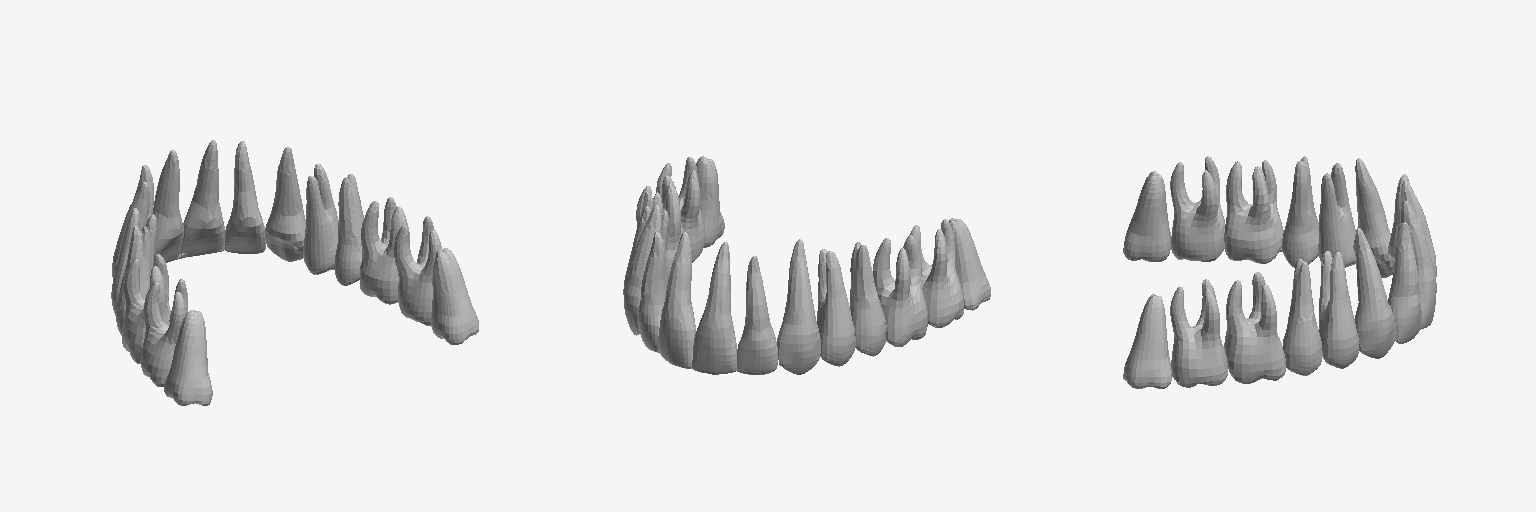
Rendered from upper_teeth.obj.
The picture shows the model from 3 angles: view 1: azimuth 30°, elevation 25°; view 2: azimuth 150°, elevation 25°; view 3: azimuth 270°, elevation 25°; orthographic projection.
Visible parts, largest first — view 1: Mouth_OBJ:tints_up_left polySurface3, polySurface1 Mouth_OBJ:tints_up_left, Mouth_OBJ:tints_up_left polySurface2, Mouth_OBJ:tints_up_left polySurface8, Mouth_OBJ:tints_up_right polySurface9, Mouth_OBJ:tints_up_left polySurface6, Mouth_OBJ:tints_up_left polySurface5, Mouth_OBJ:tints_up_right polySurface10, Mouth_OBJ:tints_up_left polySurface7, Mouth_OBJ:tints_up_right polySurface11, Mouth_OBJ:tints_up_left polySurface4, polySurface16 Mouth_OBJ:tints_up_right (+3 smaller); view 2: Mouth_OBJ:tints_up_right polySurface11, polySurface16 Mouth_OBJ:tints_up_right, Mouth_OBJ:tints_up_right polySurface14, Mouth_OBJ:tints_up_left polySurface8, Mouth_OBJ:tints_up_right polySurface13, Mouth_OBJ:tints_up_right polySurface10, Mouth_OBJ:tints_up_right polySurface15, Mouth_OBJ:tints_up_right polySurface12, Mouth_OBJ:tints_up_left polySurface7, Mouth_OBJ:tints_up_right polySurface9, Mouth_OBJ:tints_up_left polySurface2, Mouth_OBJ:tints_up_left polySurface6 (+3 smaller); view 3: Mouth_OBJ:tints_up_left polySurface3, Mouth_OBJ:tints_up_right polySurface11, Mouth_OBJ:tints_up_left polySurface2, Mouth_OBJ:tints_up_right polySurface10, Mouth_OBJ:tints_up_left polySurface5, Mouth_OBJ:tints_up_left polySurface6, polySurface1 Mouth_OBJ:tints_up_left, Mouth_OBJ:tints_up_right polySurface9, Mouth_OBJ:tints_up_left polySurface4, Mouth_OBJ:tints_up_right polySurface13, Mouth_OBJ:tints_up_left polySurface7, Mouth_OBJ:tints_up_right polySurface12 (+4 smaller).
Boxes of the visible parts, box(x1,y1,x2,y2) form: Mouth_OBJ:tints_up_left polySurface3: box(360, 197, 409, 304); polySurface1 Mouth_OBJ:tints_up_left: box(431, 248, 478, 344); Mouth_OBJ:tints_up_left polySurface2: box(394, 216, 441, 325); Mouth_OBJ:tints_up_left polySurface8: box(181, 140, 224, 258); Mouth_OBJ:tints_up_right polySurface9: box(164, 310, 212, 405); Mouth_OBJ:tints_up_left polySurface6: box(265, 147, 305, 261); Mouth_OBJ:tints_up_left polySurface5: box(303, 164, 338, 274); Mouth_OBJ:tints_up_right polySurface10: box(140, 279, 187, 386); Mouth_OBJ:tints_up_left polySurface7: box(225, 141, 265, 253); Mouth_OBJ:tints_up_right polySurface11: box(122, 254, 170, 363); Mouth_OBJ:tints_up_left polySurface4: box(335, 174, 363, 285); polySurface16 Mouth_OBJ:tints_up_right: box(153, 150, 183, 262); Mouth_OBJ:tints_up_right polySurface11: box(873, 235, 927, 346); polySurface16 Mouth_OBJ:tints_up_right: box(692, 242, 736, 374); Mouth_OBJ:tints_up_right polySurface14: box(777, 239, 820, 374); Mouth_OBJ:tints_up_left polySurface8: box(658, 232, 695, 368); Mouth_OBJ:tints_up_right polySurface13: box(817, 249, 855, 366); Mouth_OBJ:tints_up_right polySurface10: box(910, 219, 963, 327); Mouth_OBJ:tints_up_right polySurface15: box(737, 256, 777, 374); Mouth_OBJ:tints_up_right polySurface12: box(850, 242, 886, 356); Mouth_OBJ:tints_up_left polySurface7: box(638, 232, 666, 352); Mouth_OBJ:tints_up_right polySurface9: box(949, 218, 990, 310); Mouth_OBJ:tints_up_left polySurface2: box(656, 157, 704, 262); Mouth_OBJ:tints_up_left polySurface6: box(624, 204, 661, 335); Mouth_OBJ:tints_up_left polySurface3: box(1224, 272, 1286, 383); Mouth_OBJ:tints_up_right polySurface11: box(1224, 160, 1283, 263); Mouth_OBJ:tints_up_left polySurface2: box(1170, 279, 1227, 387); Mouth_OBJ:tints_up_right polySurface10: box(1170, 156, 1225, 261); Mouth_OBJ:tints_up_left polySurface5: box(1319, 251, 1359, 368); Mouth_OBJ:tints_up_left polySurface6: box(1354, 228, 1395, 358); polySurface1 Mouth_OBJ:tints_up_left: box(1123, 294, 1171, 388); Mouth_OBJ:tints_up_right polySurface9: box(1123, 171, 1170, 261); Mouth_OBJ:tints_up_left polySurface4: box(1283, 259, 1322, 375); Mouth_OBJ:tints_up_right polySurface13: box(1318, 163, 1355, 267); Mouth_OBJ:tints_up_left polySurface7: box(1388, 222, 1420, 343); Mouth_OBJ:tints_up_right polySurface12: box(1282, 156, 1318, 267).
Size of the model in its own units: 0.118 by 0.0488 by 0.1059.